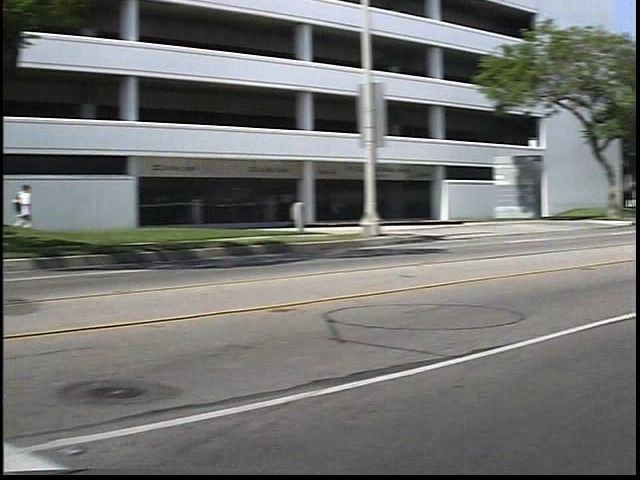person: (32, 178, 61, 247)
